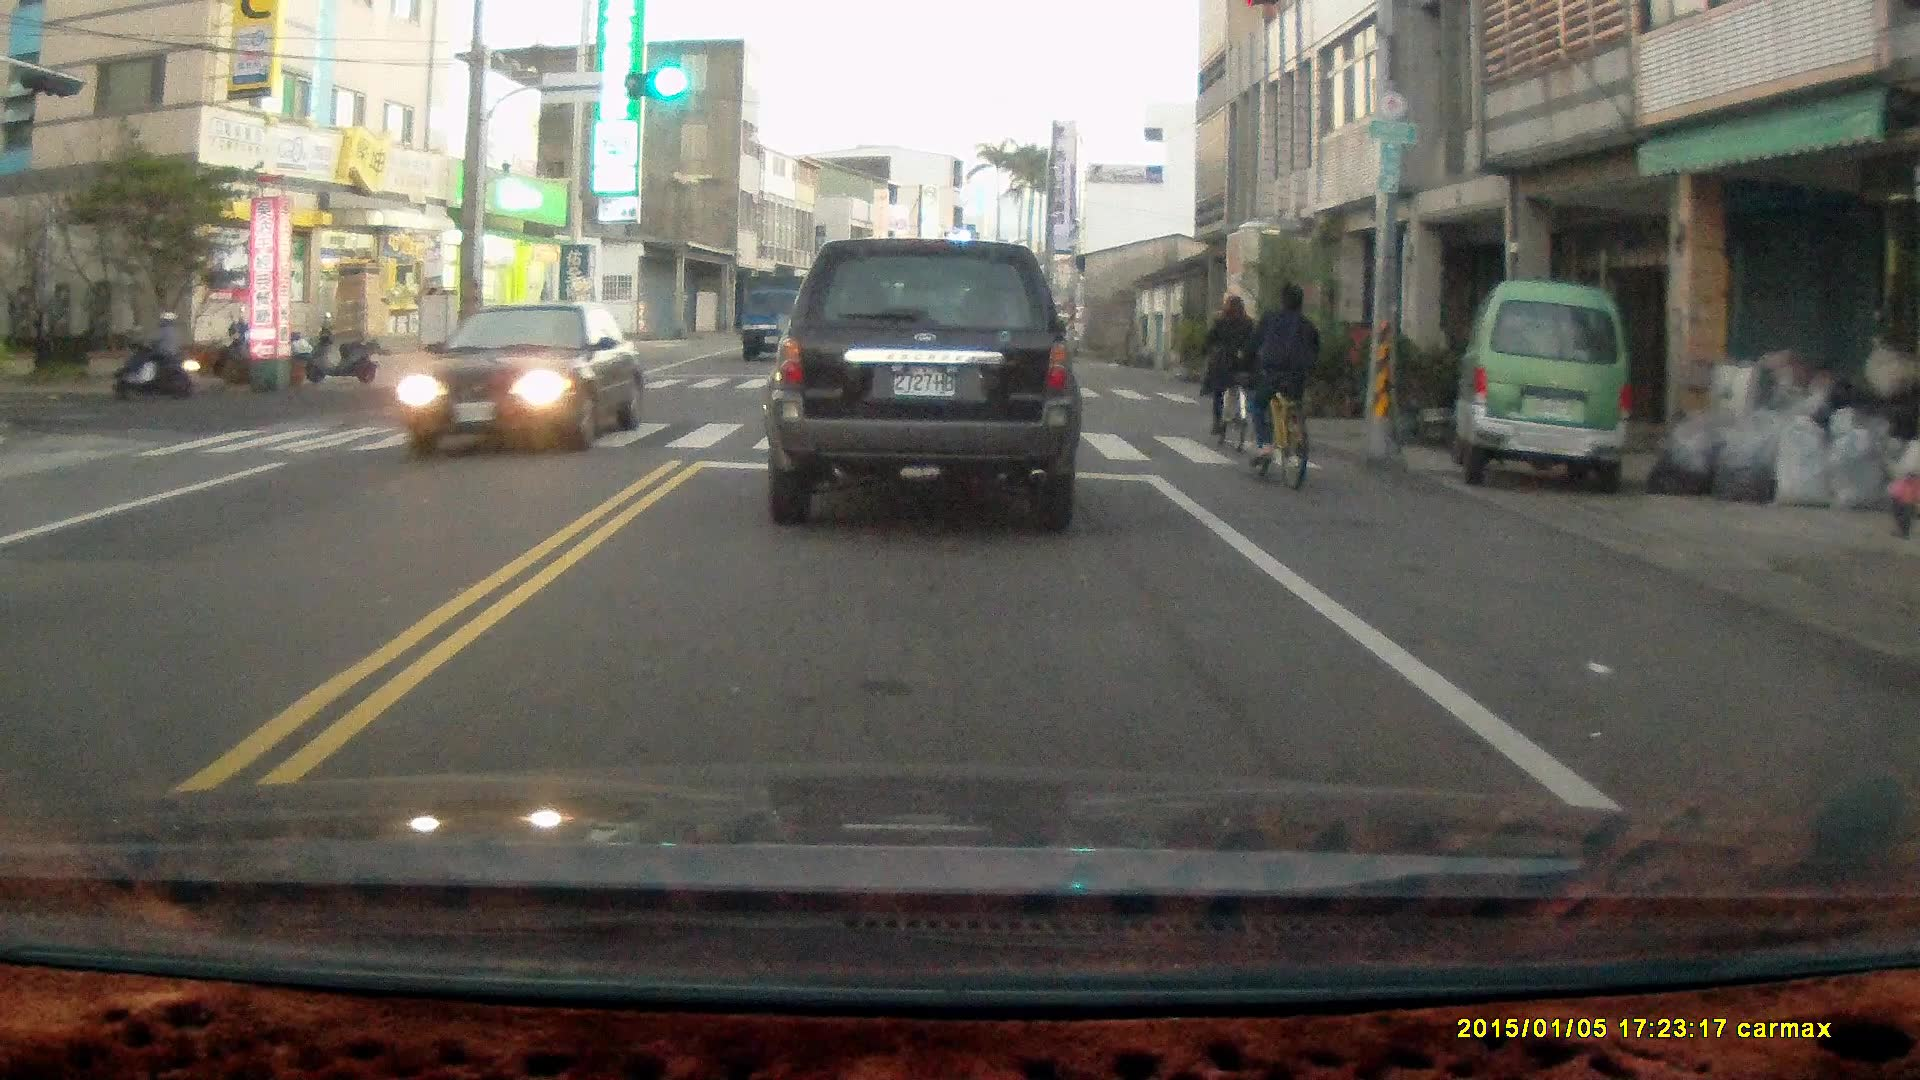rider: (1239, 280, 1322, 489), (1196, 289, 1255, 458), (109, 305, 198, 398)
vehicle: (763, 237, 1083, 532), (1454, 283, 1638, 497), (401, 301, 648, 459), (734, 272, 825, 362)
